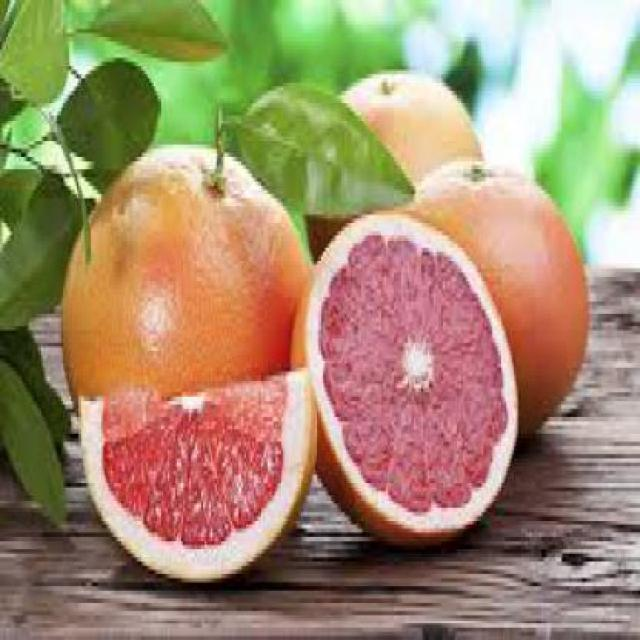BIODEGRADABLE: (308, 214, 518, 546), (62, 148, 310, 396), (405, 160, 589, 434), (80, 370, 316, 581), (225, 84, 414, 232), (345, 72, 482, 186), (58, 59, 160, 191), (0, 171, 80, 329), (86, 0, 225, 61), (0, 0, 69, 103), (309, 217, 344, 256)
